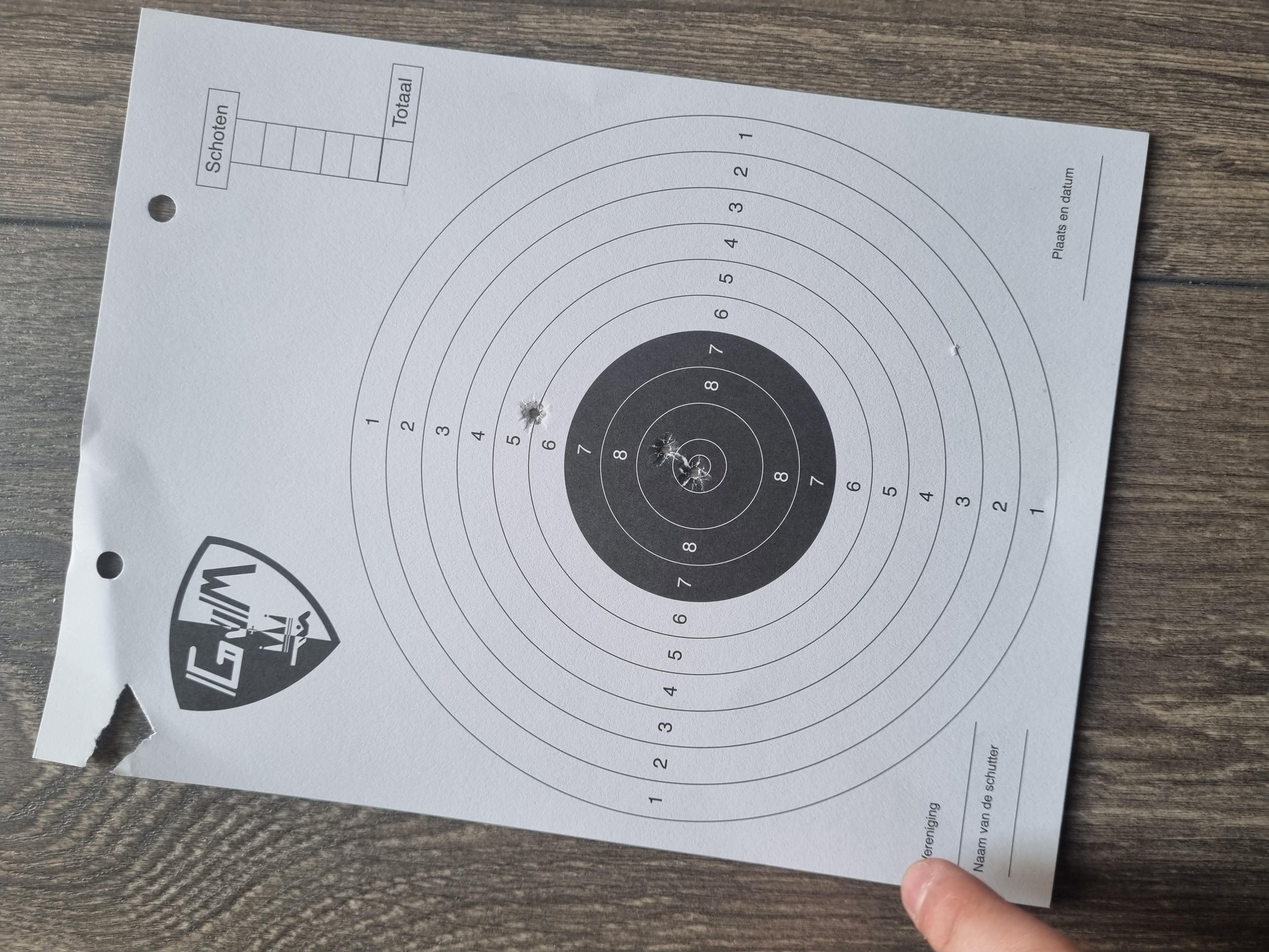hole: (613, 507, 665, 534), (649, 488, 691, 510), (695, 389, 736, 411)
